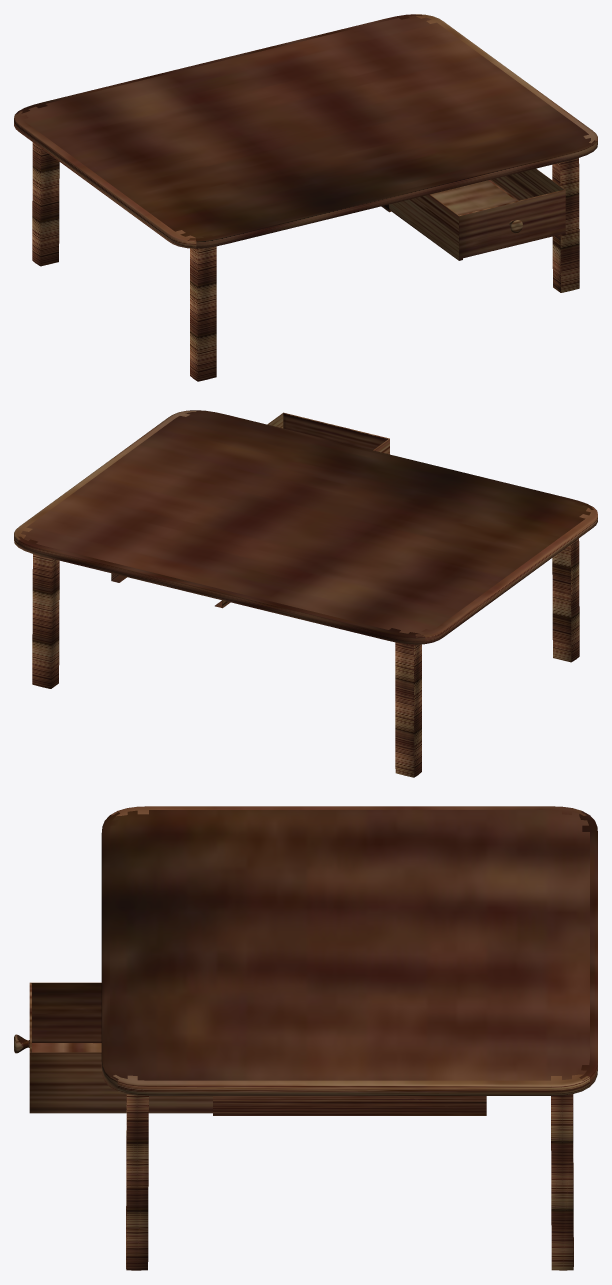
The model's file is table.obj.
3 renders of one model, top to bottom at view 1: azimuth 30°, elevation 25°; view 2: azimuth 150°, elevation 25°; view 3: azimuth 270°, elevation 25°, orthographic. The views are drawn at different scales.
Visible parts, largest first — view 1: table_Cube.001, drawer_box_Cube.004; view 2: table_Cube.001, drawer_box_Cube.004; view 3: table_Cube.001, drawer_box_Cube.004.
Boxes of the visible parts, bbox=[...] form: table_Cube.001: bbox=[14, 14, 597, 381]; drawer_box_Cube.004: bbox=[389, 168, 565, 260]; table_Cube.001: bbox=[14, 410, 597, 777]; drawer_box_Cube.004: bbox=[267, 412, 389, 454]; table_Cube.001: bbox=[101, 806, 597, 1270]; drawer_box_Cube.004: bbox=[14, 982, 212, 1113].
Bounding box in the file's own units: 42.25 × 14.07 × 37.3.
